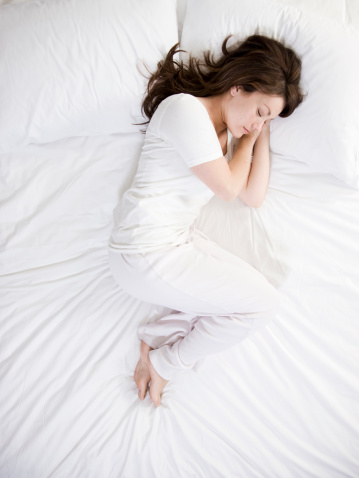deitado: (69, 16, 340, 425)
